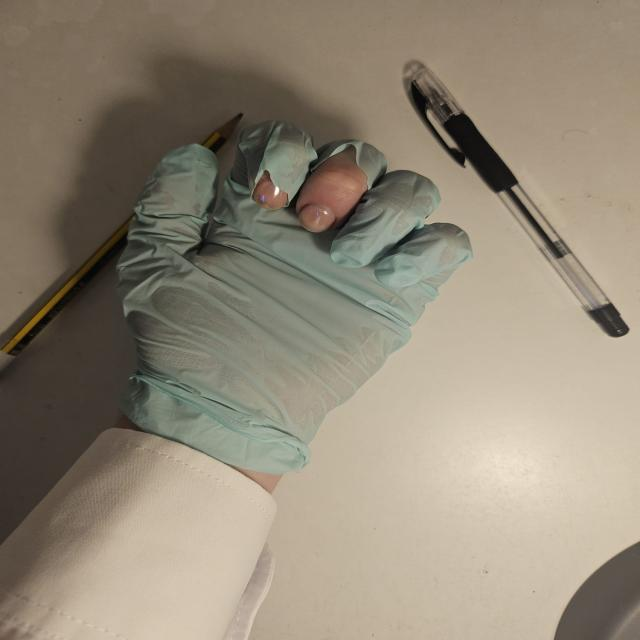gloves_damaged: (105, 121, 475, 482)
